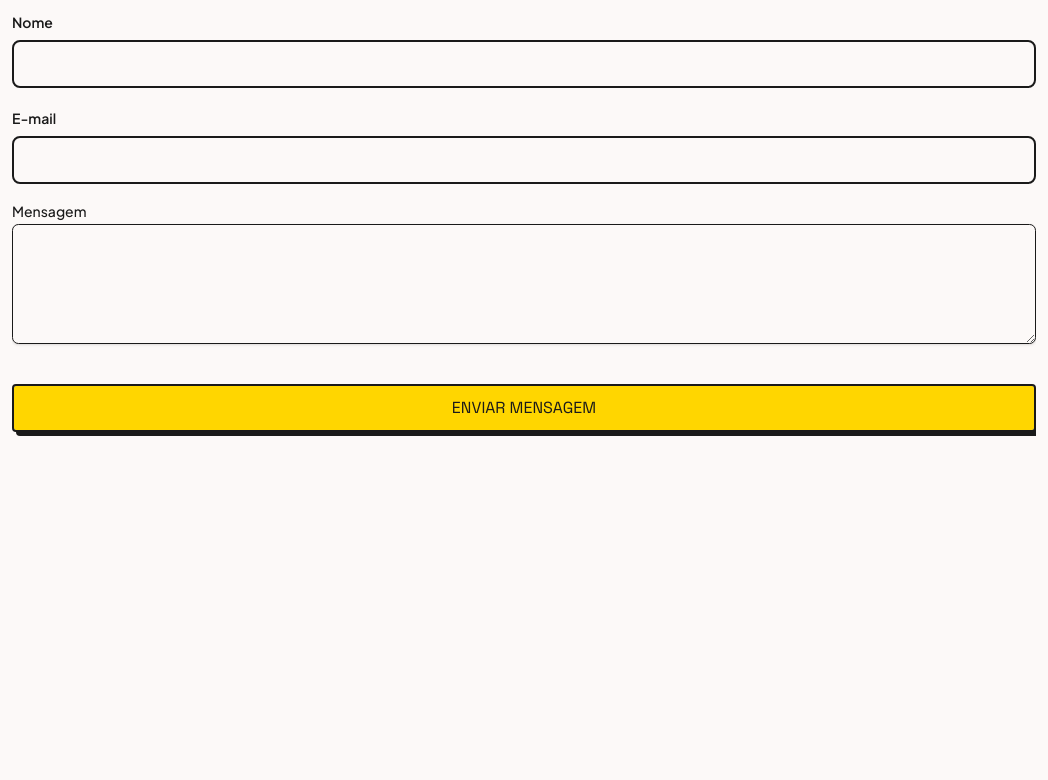
Test case: Formulário de Contato › exibe erros de validação ao tentar enviar vazio
The image size is (1048, 780).
Click the button "Enviar mensagem".
click(524, 408)  # box [12,384,1036,432]
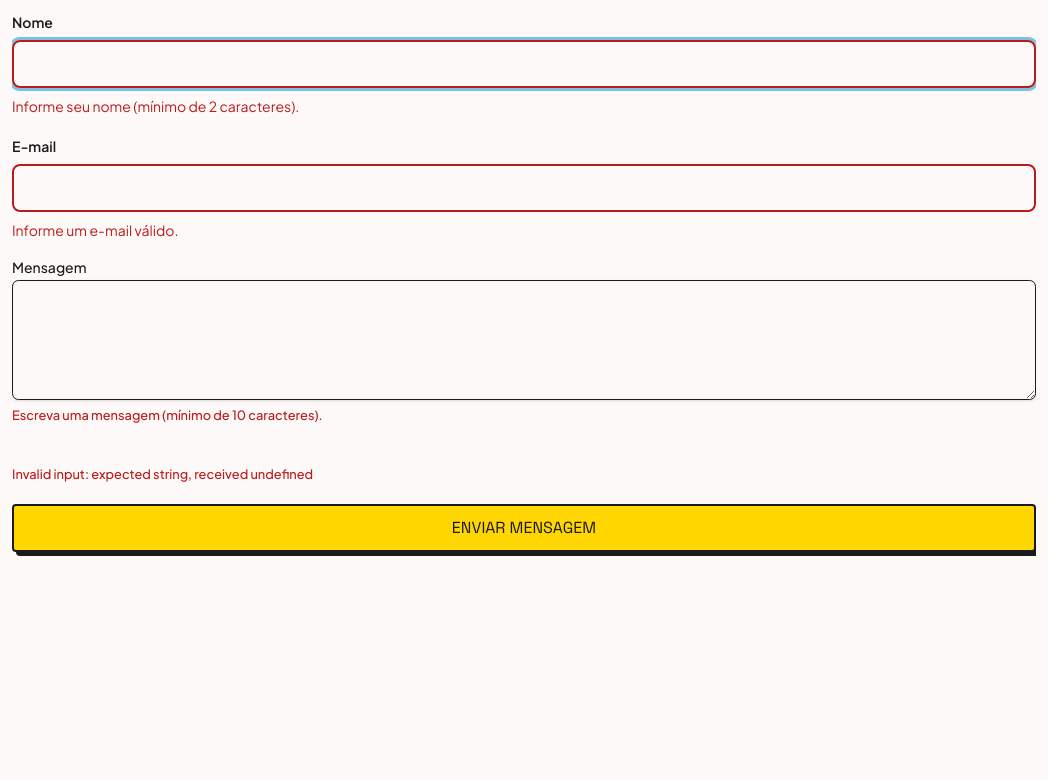
expect the text "Informe seu nome (mínimo de 2 caracteres)." is shown: met, box [12,97,299,115]
expect the text "Informe um e-mail válido." is shown: met, box [12,221,178,239]
expect the text "Escreva uma mensagem (mínimo de 10 caracteres)." is shown: met, box [12,407,323,423]
